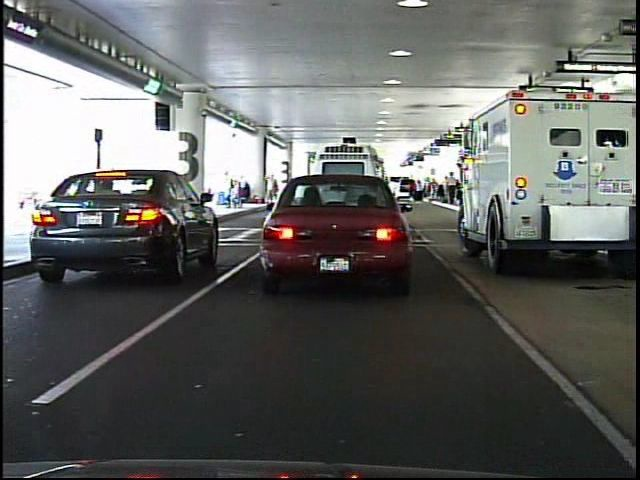person: (262, 171, 279, 200)
